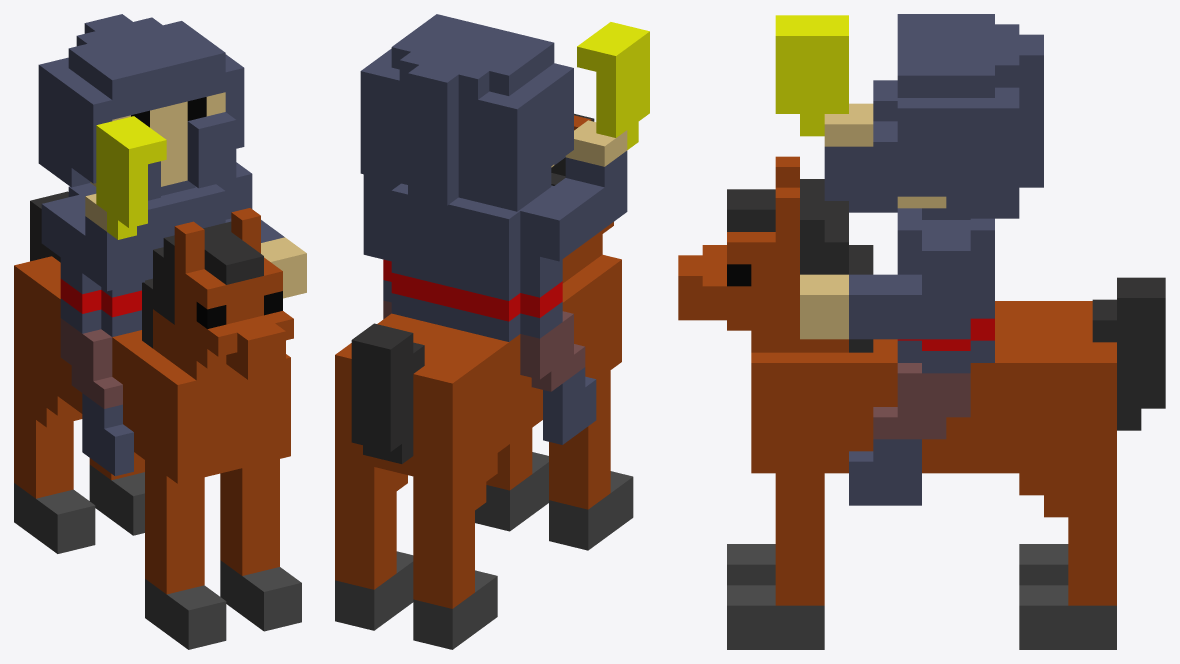
File: Horse.obj
The picture shows the model from 3 angles, left to right: view 1: azimuth 30°, elevation 25°; view 2: azimuth 150°, elevation 25°; view 3: azimuth 270°, elevation 25°; orthographic projection. The views are drawn at different scales.
Bounding box in the file's own units: 1 × 2.6 × 2.
Materials: 1 (1 with a texture image).
